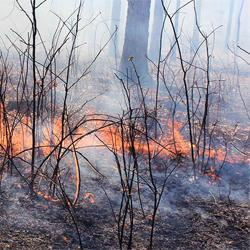fire: (5, 126, 64, 152), (127, 135, 184, 153)
